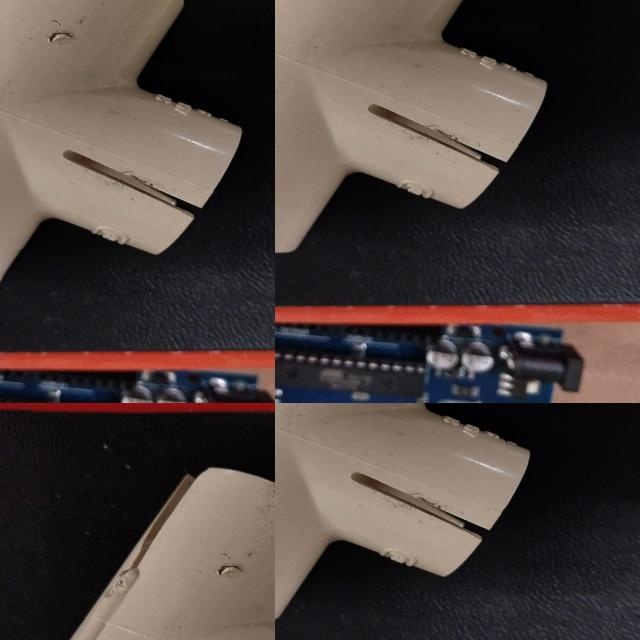Defective: (4, 250, 67, 403), (349, 483, 496, 546), (47, 0, 99, 116), (215, 247, 275, 277), (275, 45, 312, 76)
T Joint: (0, 0, 275, 403), (275, 0, 617, 152), (275, 403, 505, 628)
